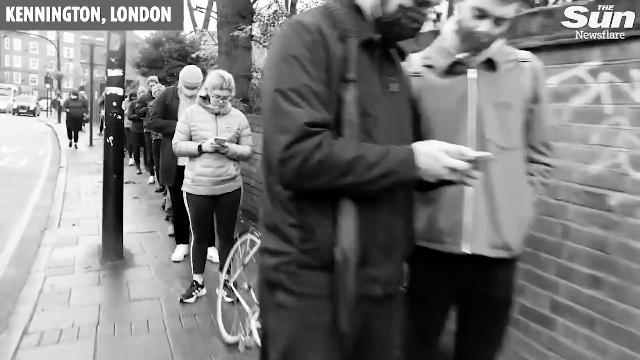berdiri: (254, 0, 426, 360), (406, 0, 544, 346), (168, 65, 252, 318)
